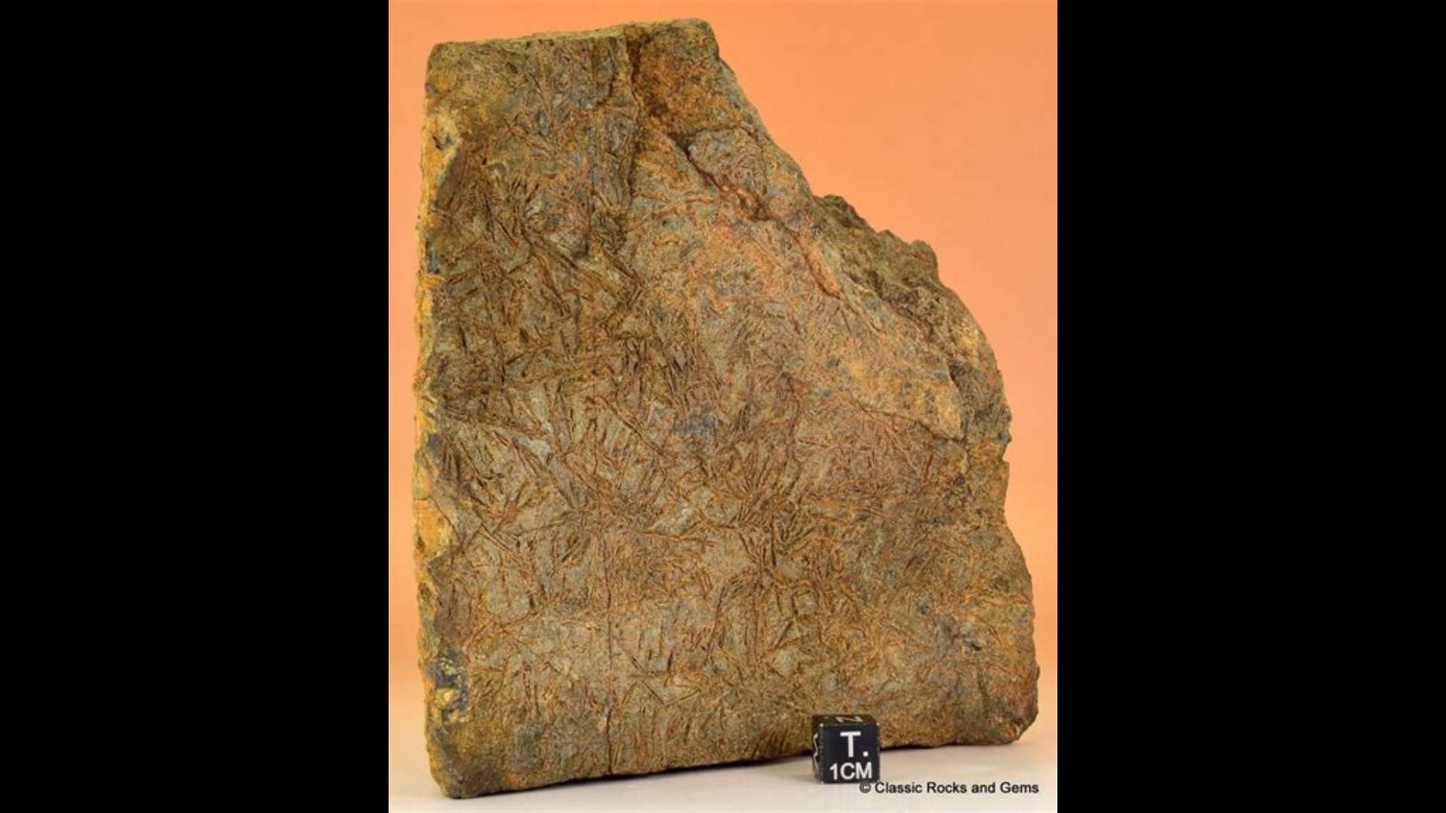rock: (415, 20, 1034, 795)
